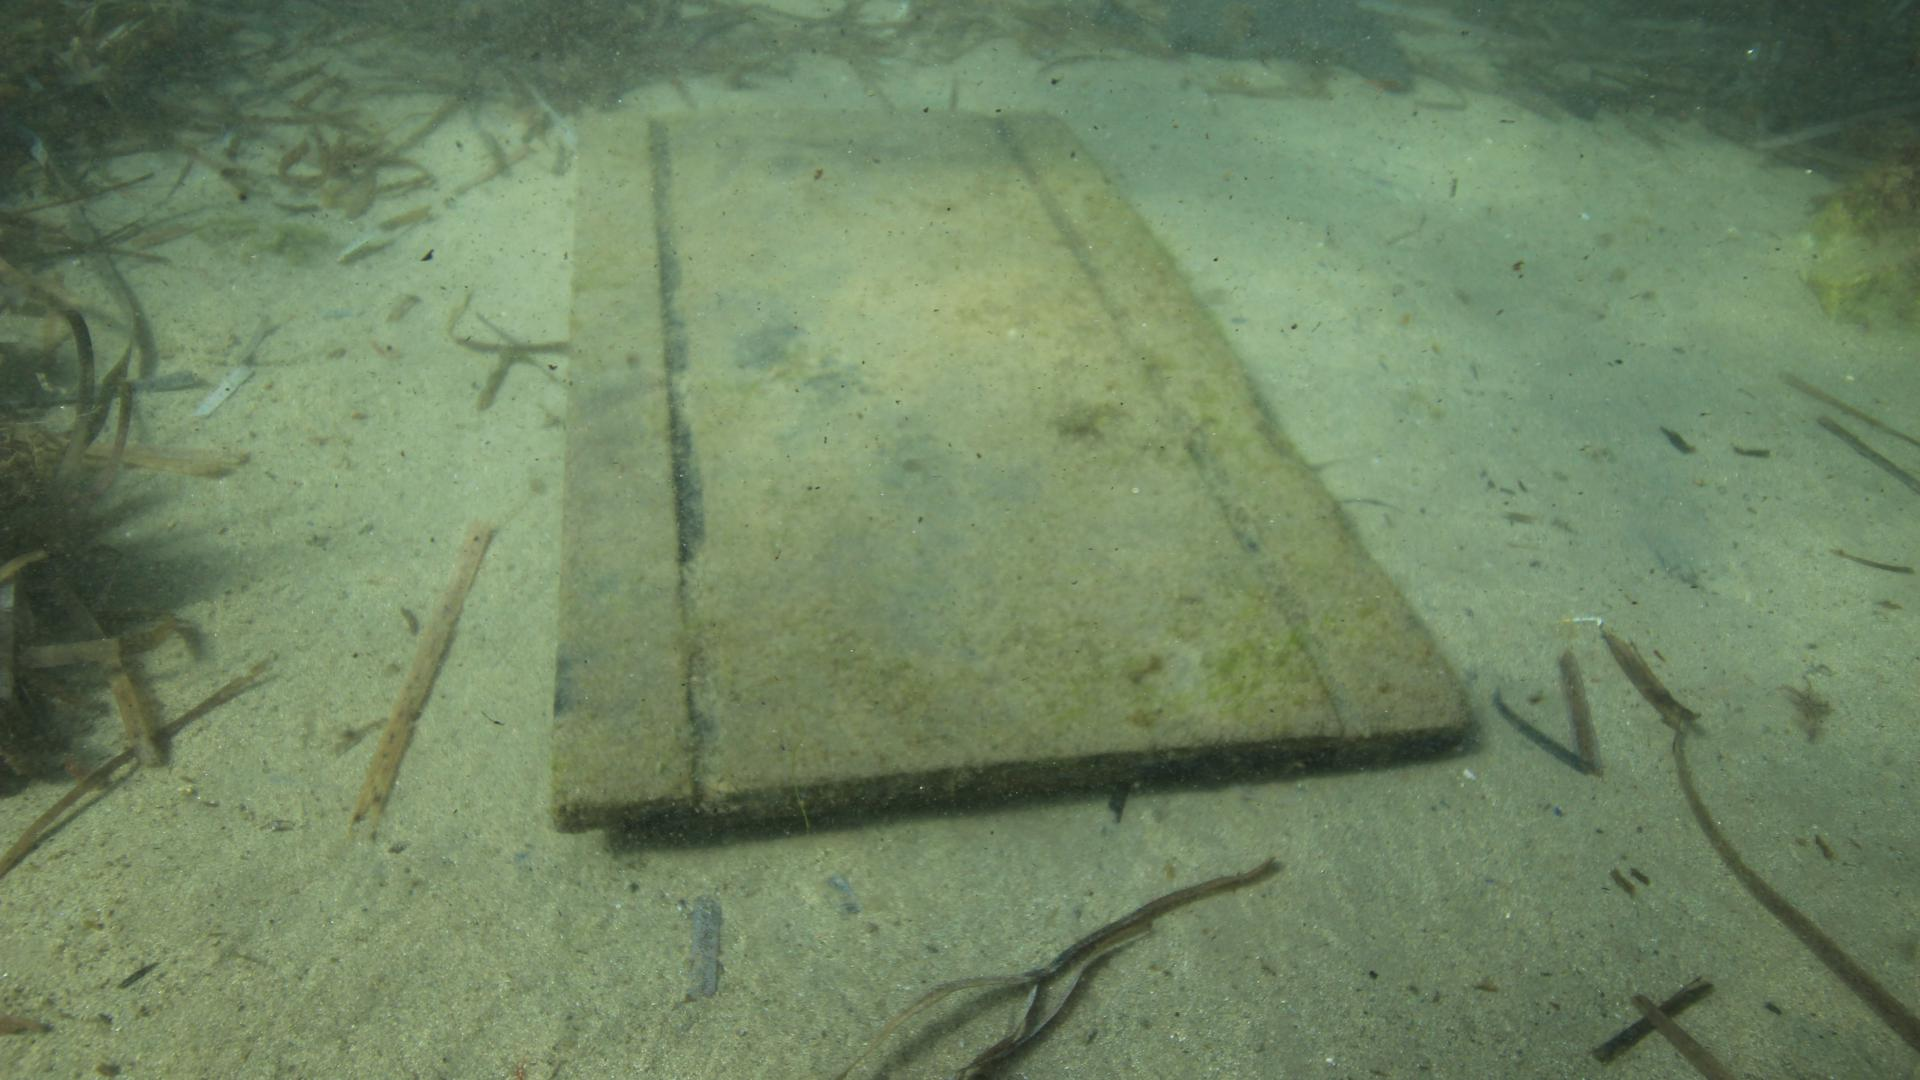wood: (551, 109, 1472, 835)
